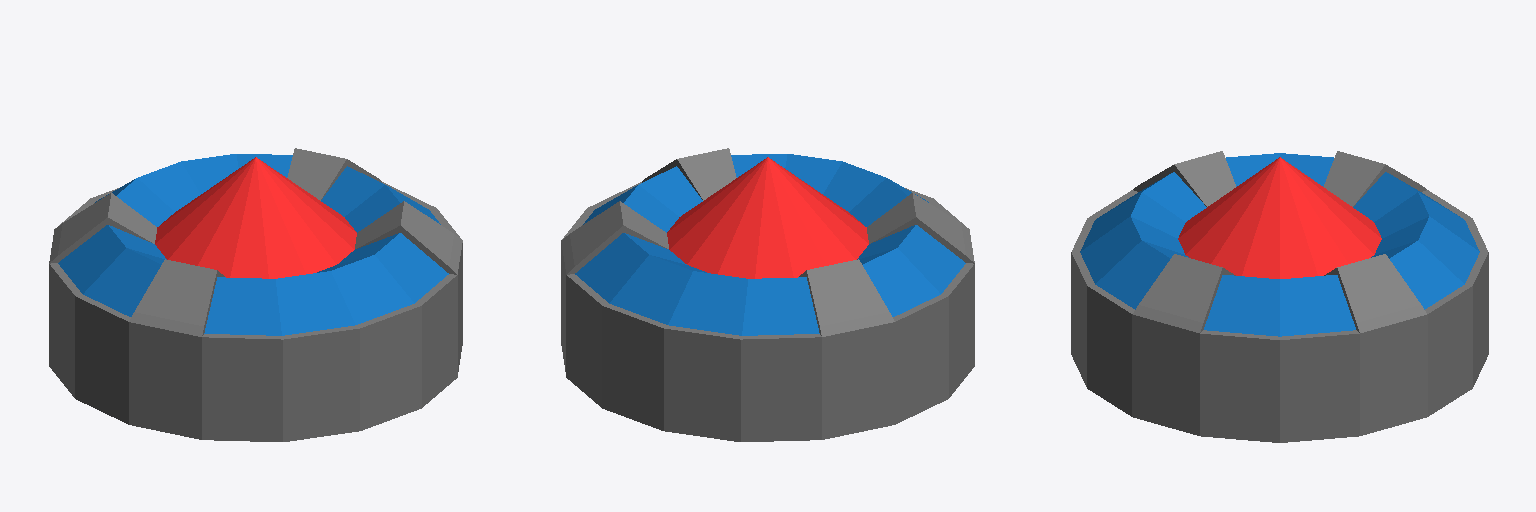
The model's file is mystical_power_source_2024.obj.
3 renders of one model, left to right at view 1: azimuth 30°, elevation 25°; view 2: azimuth 150°, elevation 25°; view 3: azimuth 270°, elevation 25°, orthographic.
Parts seen in each view (by area): view 1: 0, 1, 2; view 2: 0, 1, 2; view 3: 0, 1, 2.
Boxes of the visible parts, x1,y1,x2,y2 form: 0: [49, 148, 462, 441]; 1: [58, 154, 448, 335]; 2: [155, 157, 356, 278]; 0: [561, 148, 974, 441]; 1: [575, 154, 965, 335]; 2: [667, 157, 868, 278]; 0: [1071, 151, 1488, 442]; 1: [1080, 153, 1479, 336]; 2: [1178, 157, 1381, 278].
Bounding box in the file's own units: 0.1 × 0.0523 × 0.1.